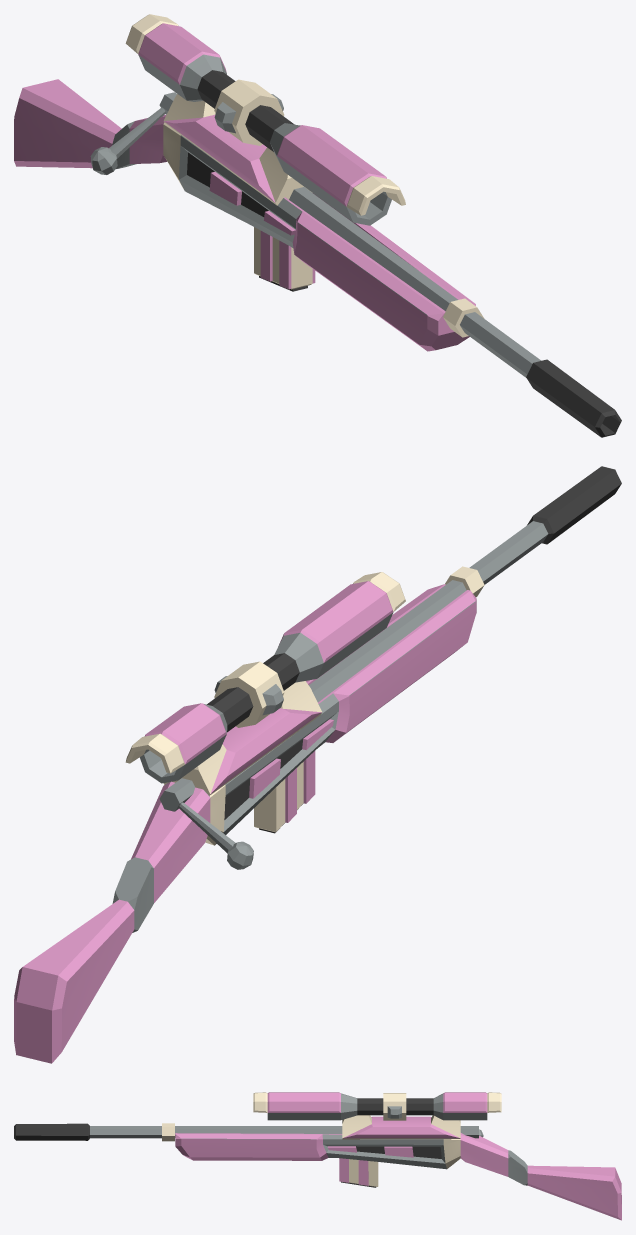
File: Gun-4.fbx
3 views of the same model, one above another, from view 1: azimuth 30°, elevation 25°; view 2: azimuth 150°, elevation 25°; view 3: azimuth 270°, elevation 25° (orthographic). The views are drawn at different scales.
Parts seen in each view (by area): view 1: Gun_4; view 2: Gun_4; view 3: Gun_4.
Boxes of the visible parts, x1,y1,x2,y2 form: Gun_4: (14,14,621,437); Gun_4: (14,466,621,1063); Gun_4: (14,1092,621,1220).
Bounding box in the file's own units: 66.4 × 133 × 594.
